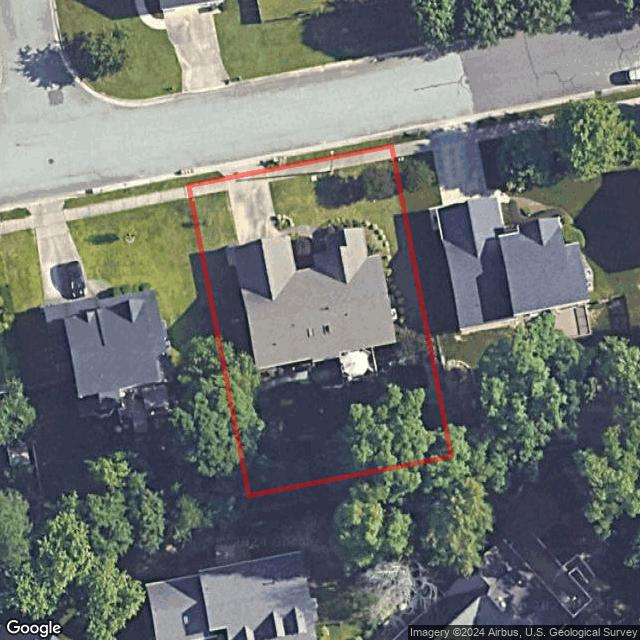Driveway: (225, 170, 283, 244)
Extra-Driveway: (217, 162, 267, 179)
Extra-Lawn: (263, 137, 393, 170), (185, 172, 225, 186)
House: (232, 227, 398, 370)
Lawn: (188, 145, 451, 496)
Other: (318, 219, 407, 331), (260, 344, 386, 392)
Sidewalk: (267, 145, 395, 183), (281, 225, 326, 251), (189, 179, 228, 197)
